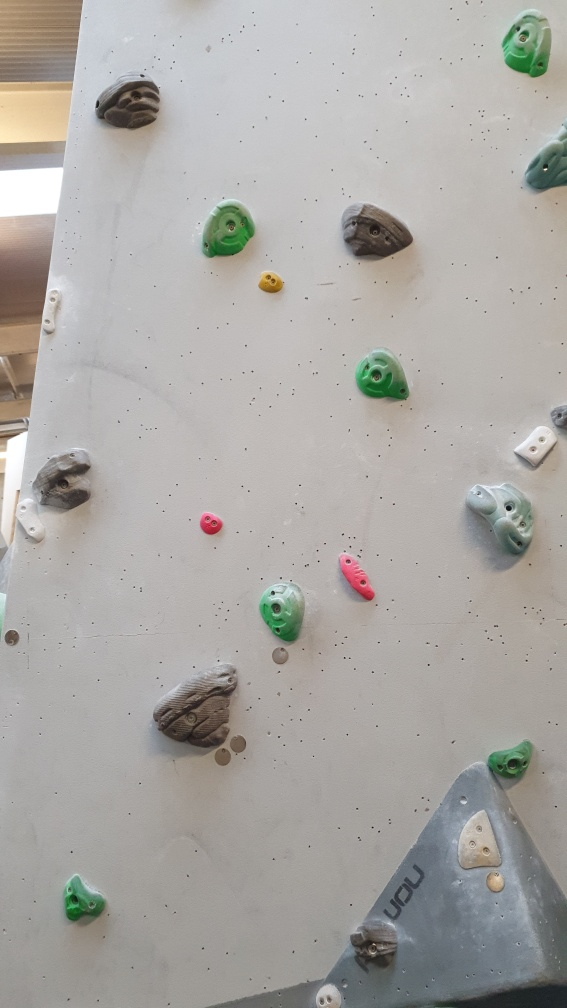Crimp: (509, 421, 558, 469), (336, 547, 374, 607)
Hand Start: (488, 870, 508, 892), (211, 745, 230, 767), (271, 645, 290, 665), (227, 736, 248, 753), (3, 628, 20, 644)
Jug: (150, 657, 241, 749), (462, 478, 538, 559), (338, 204, 417, 262), (95, 72, 162, 131), (199, 197, 261, 260), (500, 11, 555, 80), (351, 346, 413, 405), (29, 447, 91, 506), (523, 111, 567, 189), (260, 577, 307, 643), (487, 732, 533, 781)
Pinch: (196, 511, 224, 538)
